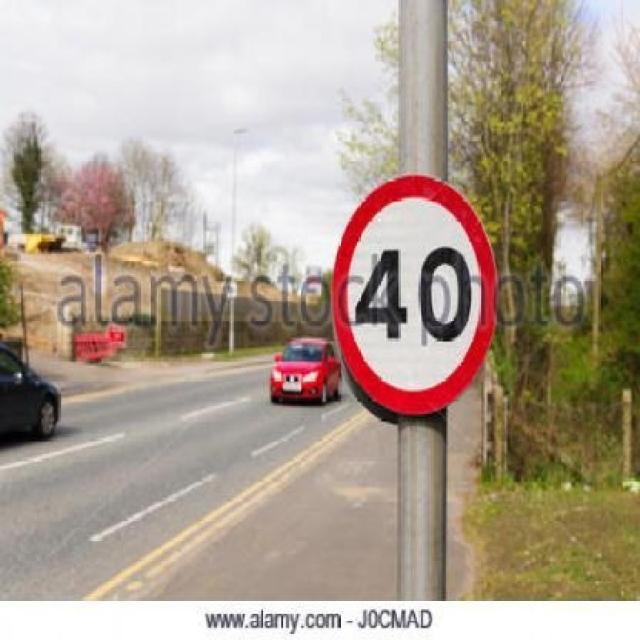forb_speed_over_40: (333, 176, 493, 413)
